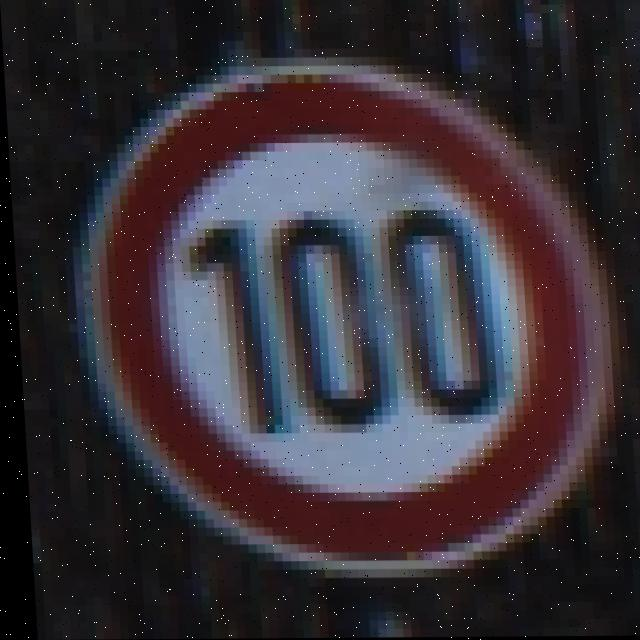speed_limit_100: (66, 64, 631, 572)
